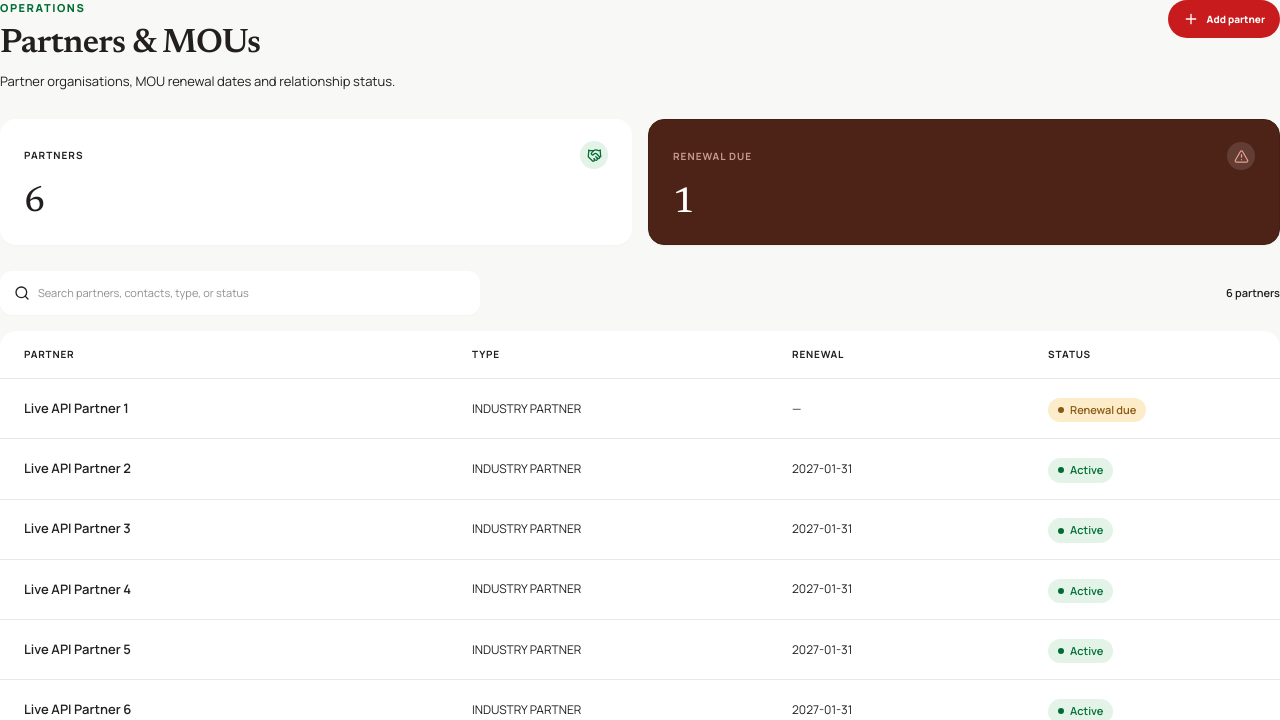
Scenario: PartnersMousPage › renews an MOU with the OpenAPI PUT endpoint and an ISO renewal date
Click the text "Live API Partner 1" at (76, 408), box [0,379,448,439]
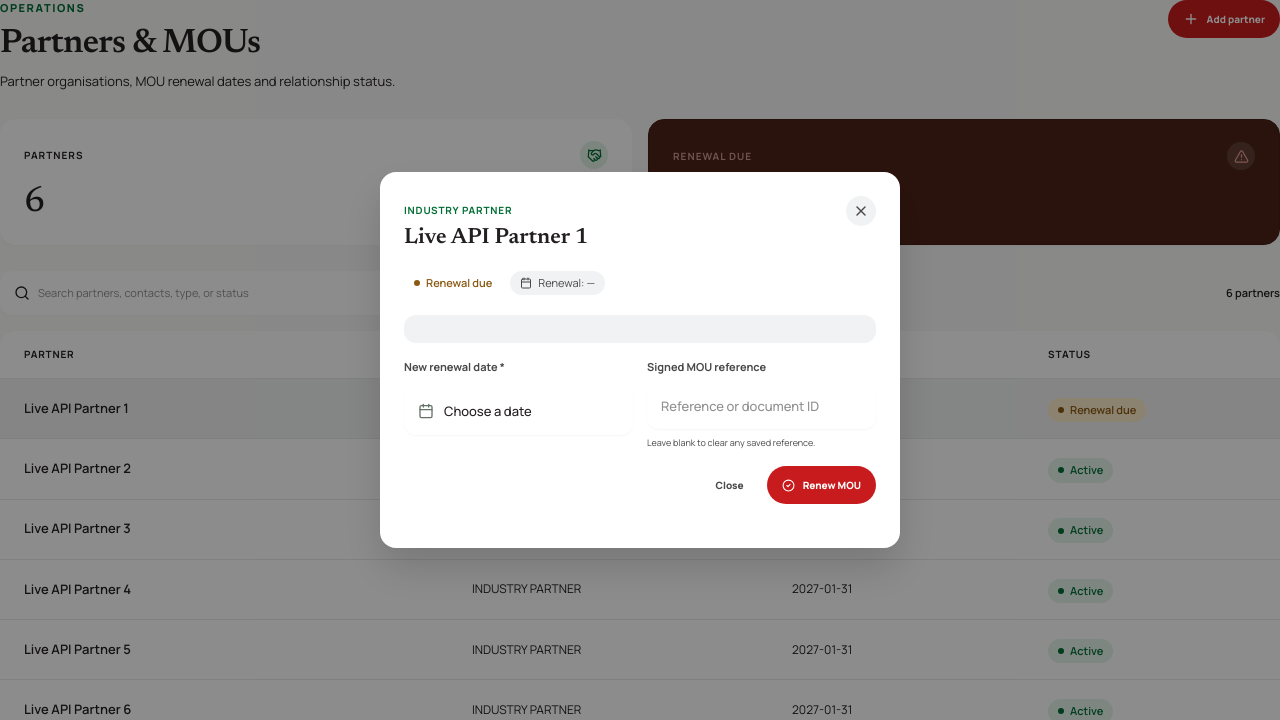
Click the button named "New renewal date *" at (518, 411), box [404,386,633,435]
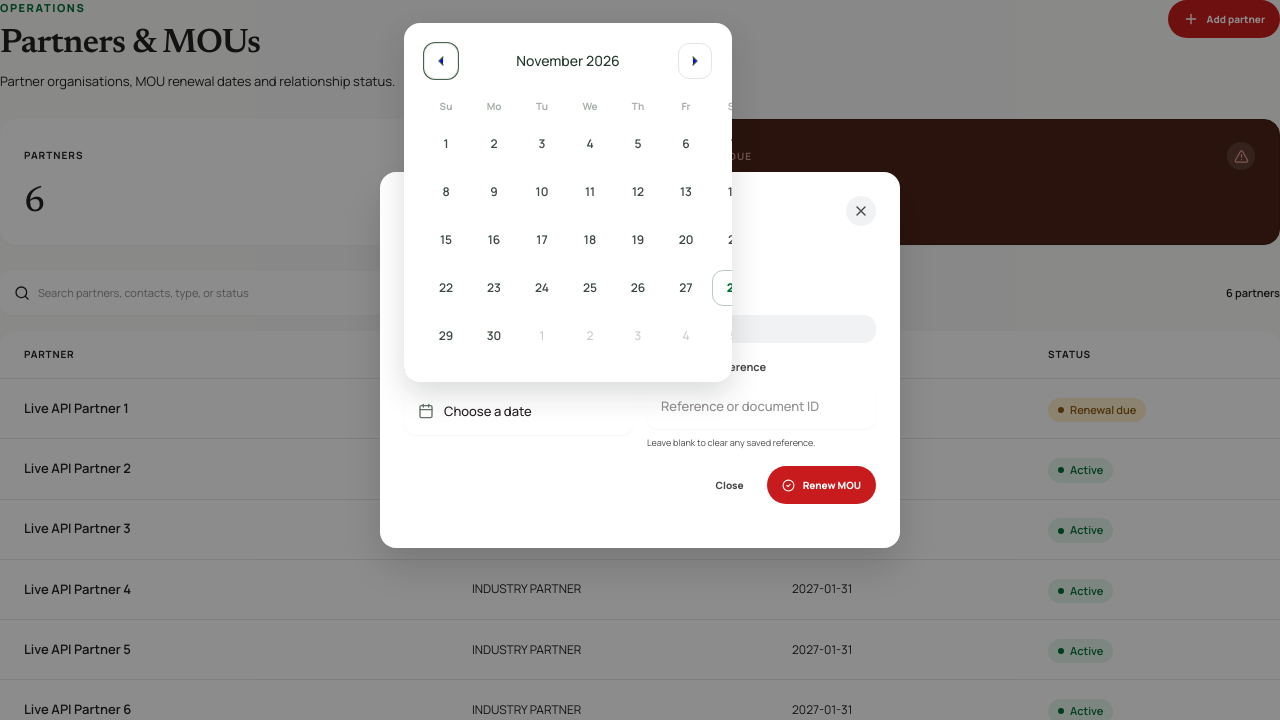
Result: the 1st button "1" is shown
Click the 1st button "1" at (446, 144), box [424,126,468,162]
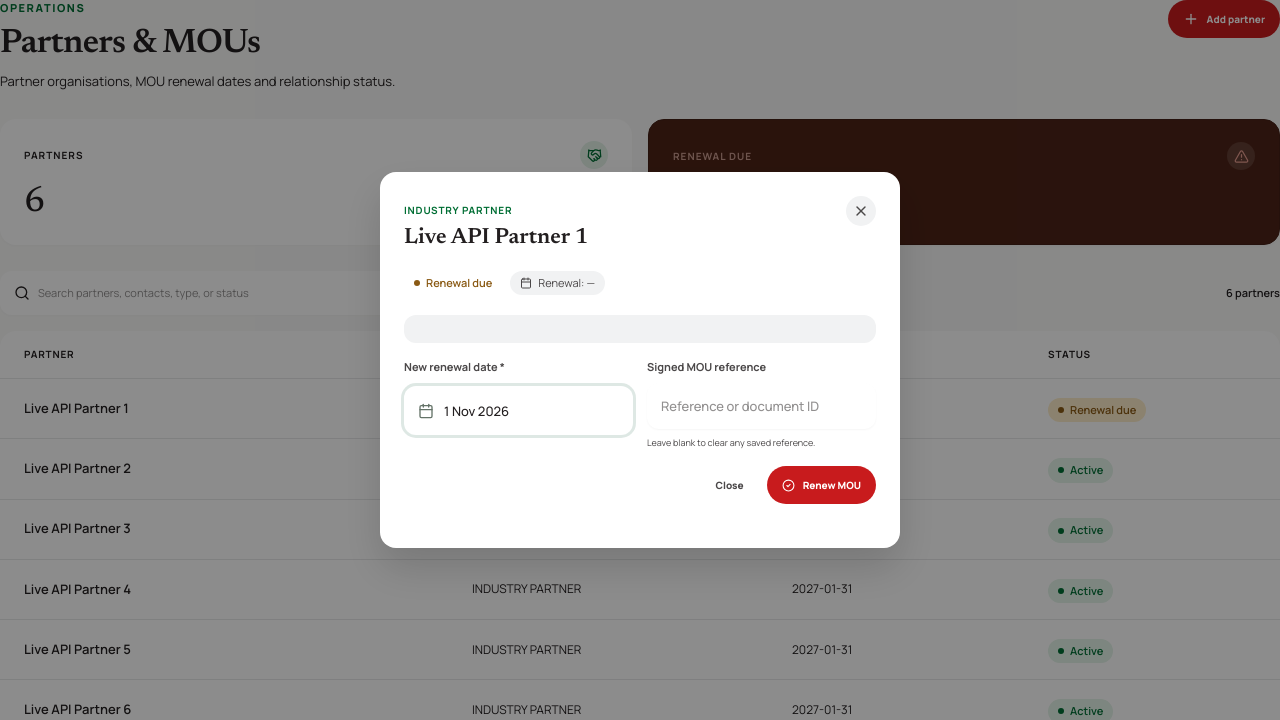
Click the button "Renew MOU" at (821, 485), box [767,466,876,504]
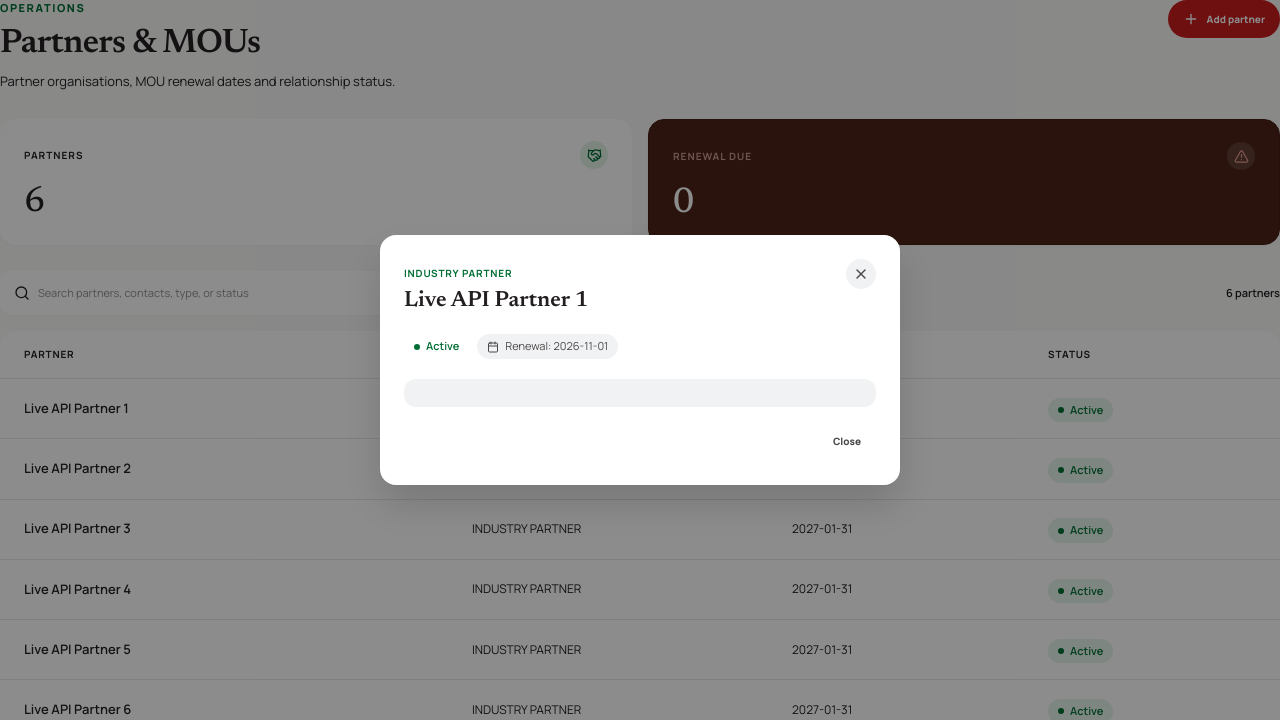
Result: the text "Active" is shown at [414,338,459,353]
Result: the button "Renew MOU" is gone
